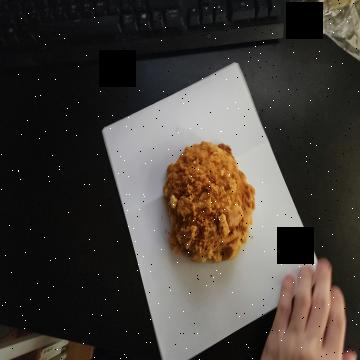soboru_bread: (162, 141, 256, 271)
